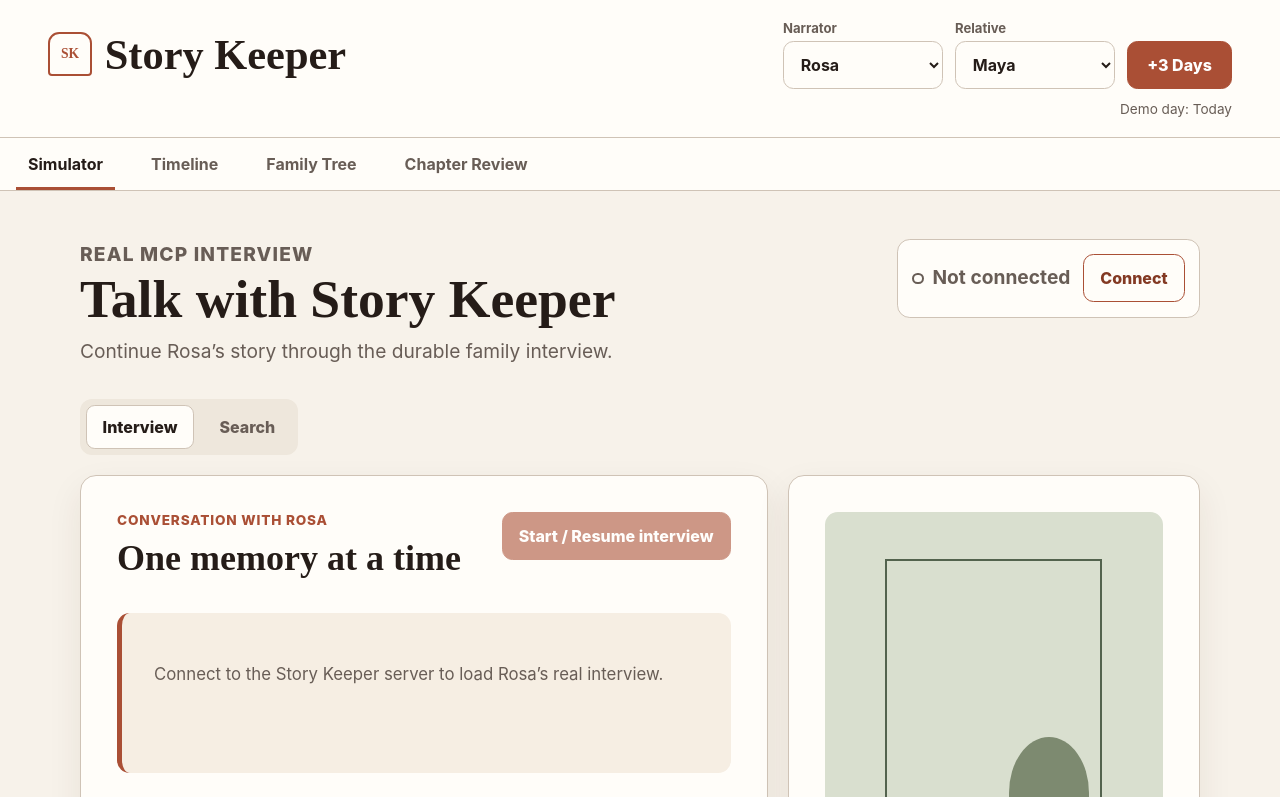
it: SimulatorApp › ignores a connection that completes after unmount
The width and height of the screenshot is (1280, 797).
Click the button "Connect" at (1134, 278), box left=1083, top=254, right=1185, bottom=302
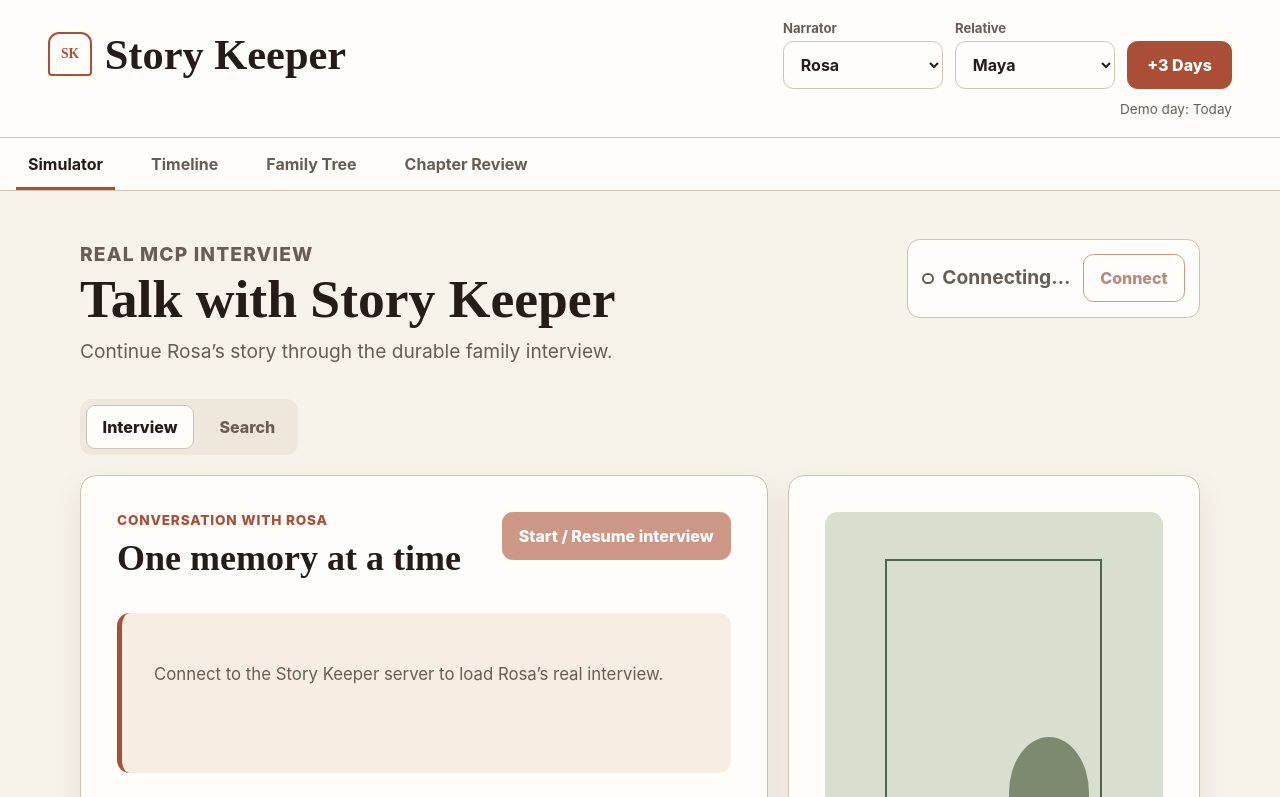
Result: the text "Connecting…" is shown at left=922, top=262, right=1070, bottom=294
